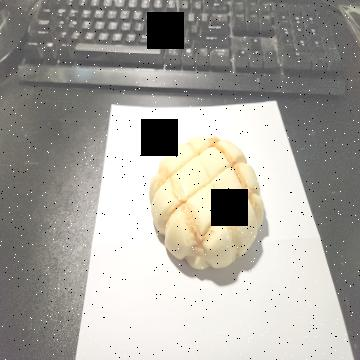melon_bread: (148, 134, 267, 272)
